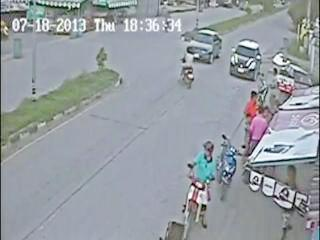Car: (228, 38, 260, 81), (186, 29, 220, 62)
Motor: (180, 167, 213, 238), (217, 136, 237, 198), (177, 57, 196, 88)
Not Accident: (175, 27, 222, 89)
